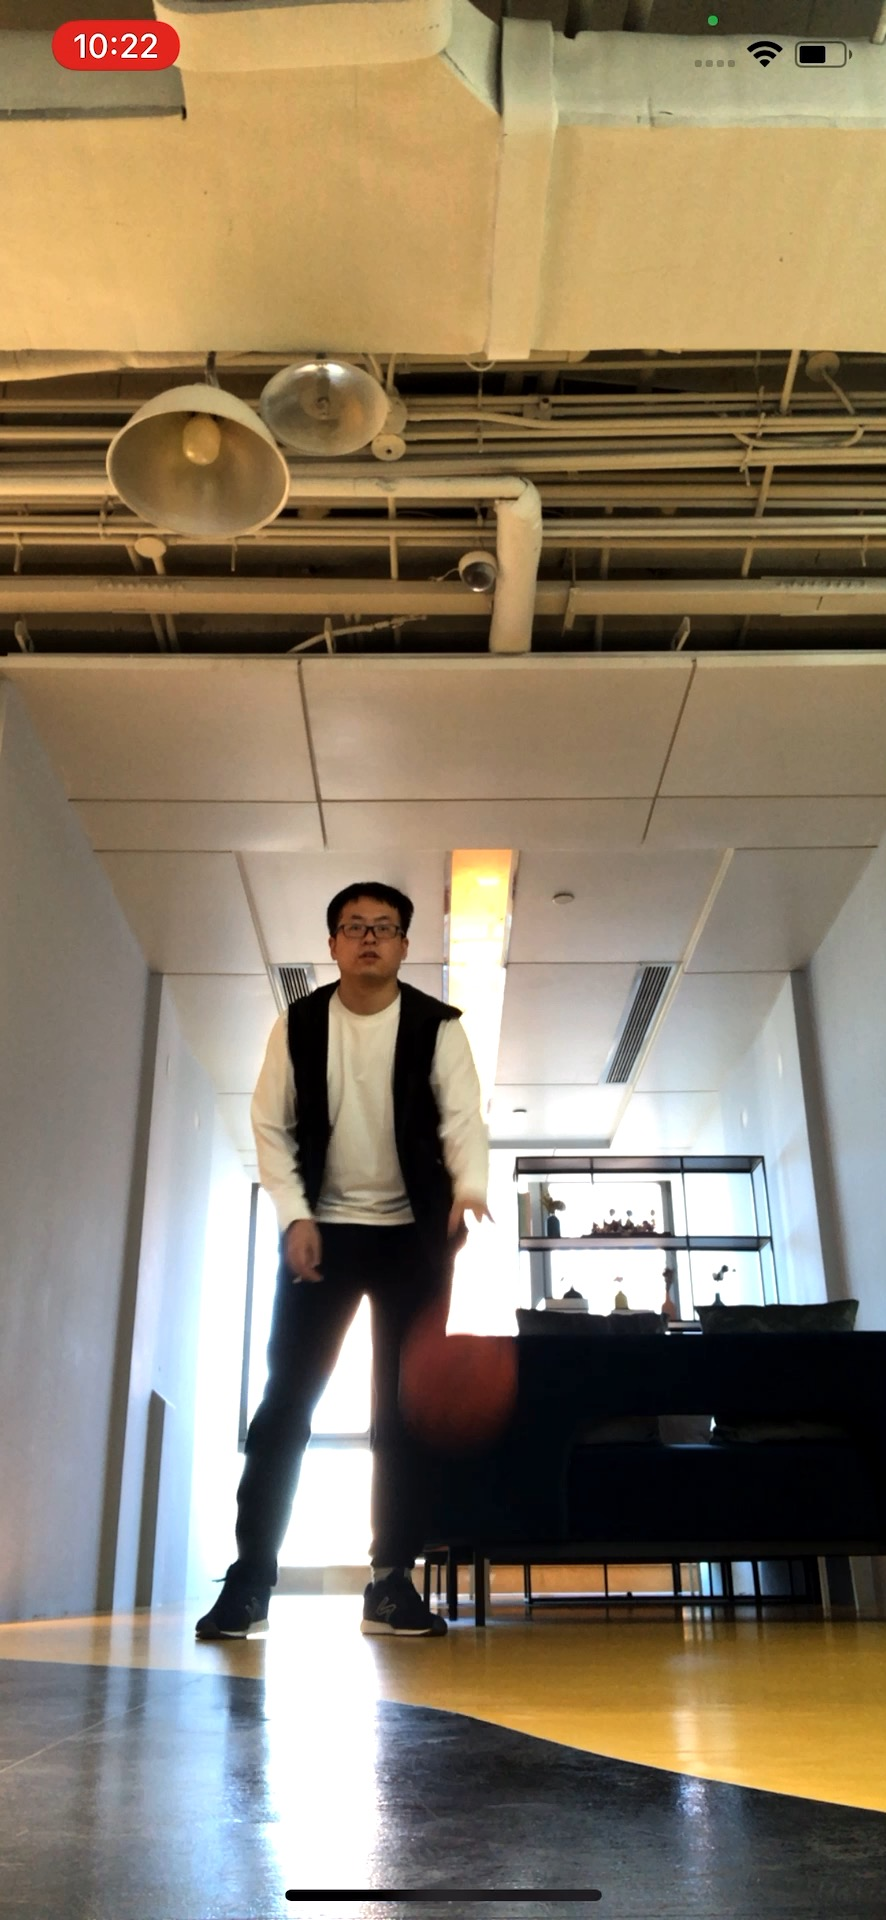ball: (394, 1333, 518, 1427)
